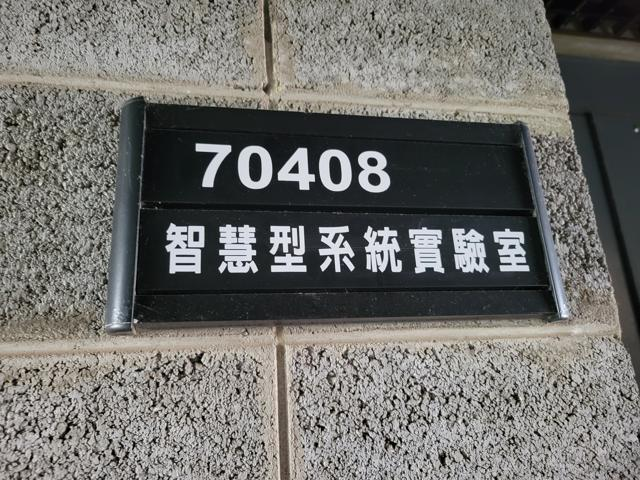doorplate: (99, 85, 575, 347)
